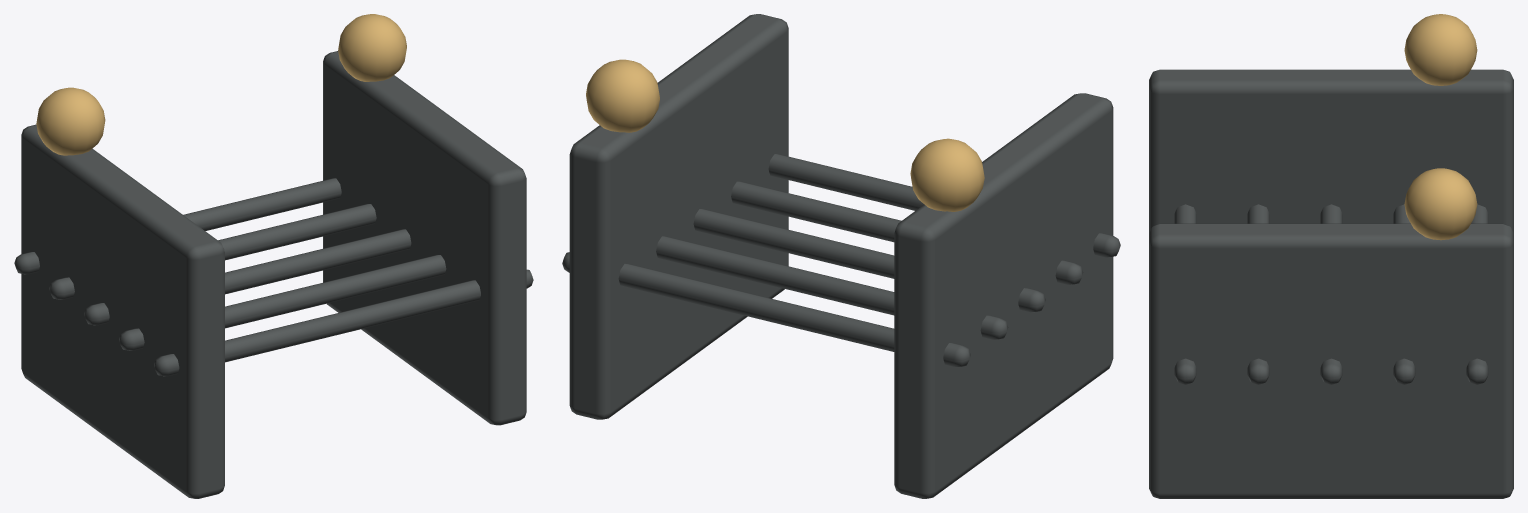
Rendered from adventurers-tavern-and-guild-hall-hearth-irons-a50b0927__24726.glb.
3 renders of one model, left to right at view 1: azimuth 30°, elevation 25°; view 2: azimuth 150°, elevation 25°; view 3: azimuth 270°, elevation 25°, orthographic. The views are drawn at different scales.
Visible parts, largest first — view 1: hearth-irons; view 2: hearth-irons; view 3: hearth-irons.
Boxes of the visible parts, box(x1,y1,x2,y2) form: hearth-irons: box(14, 14, 533, 498); hearth-irons: box(562, 14, 1120, 498); hearth-irons: box(1149, 14, 1513, 498).
Size of the model in its own units: 0.5 by 0.39 by 0.4.
